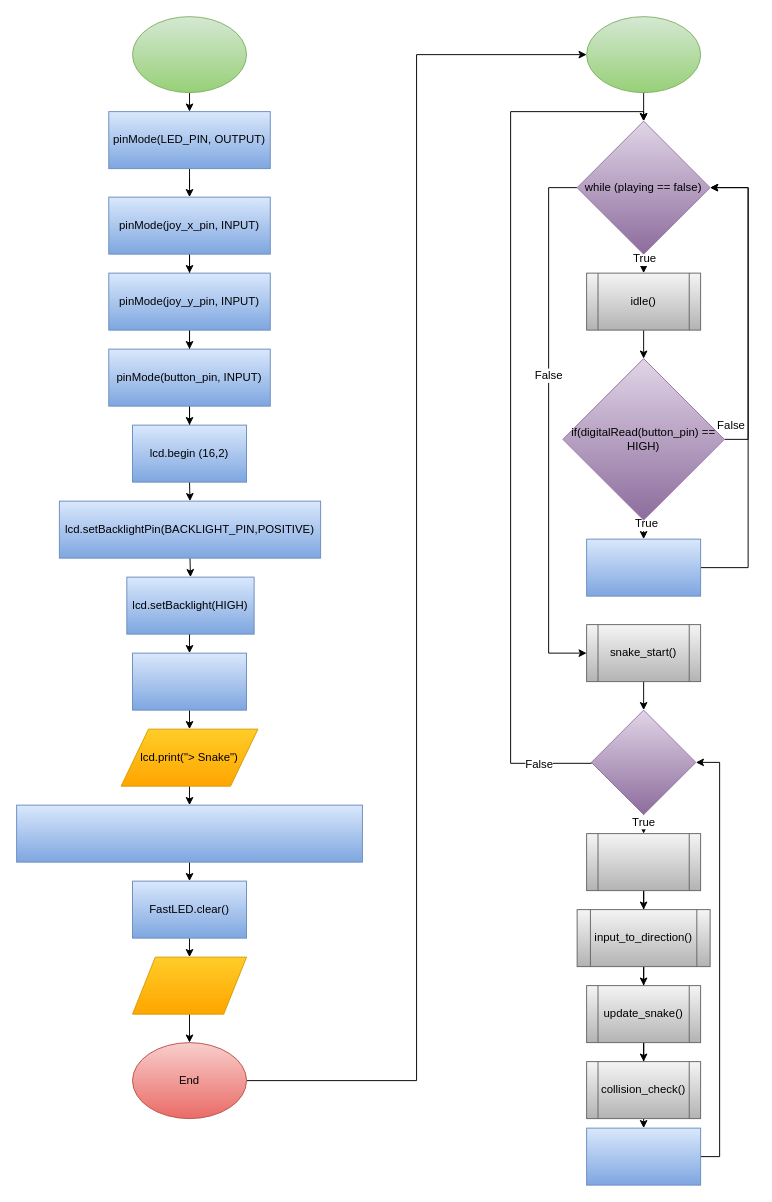
Some shapes in this 772 by 1202 pixel diagram are drawn without their labels. The shapes that lost their labels are listed below. From the top down, each one's centre as x and y in pixels, then its label:
(x=189, y=54): void setup()
(x=643, y=54): void loop()
(x=643, y=567): playing = true
(x=189, y=681): lcd.home()
(x=643, y=762): while(playing)
(x=189, y=833): FastLED.addLeds<CHIPSET, LED_PIN, RGB>(leds, NUM_LEDS)
(x=643, y=862): get_input()
(x=189, y=985): FastLED.show()
(x=643, y=1156): delay(speed)
